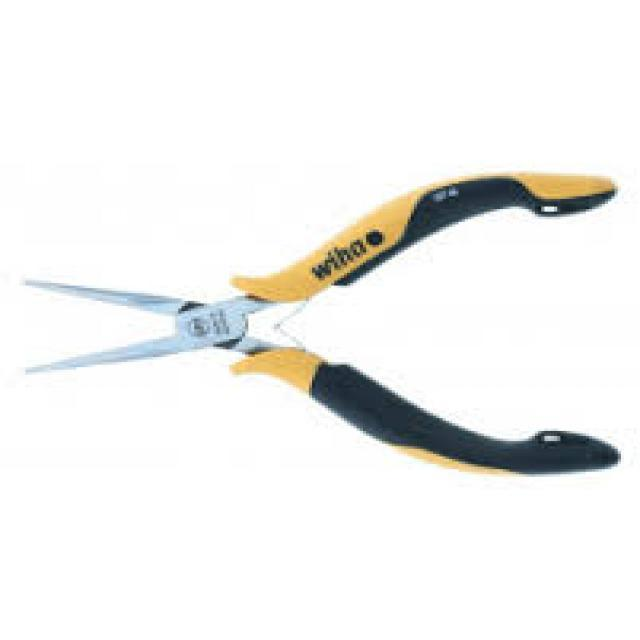pliers: (27, 170, 624, 480)
